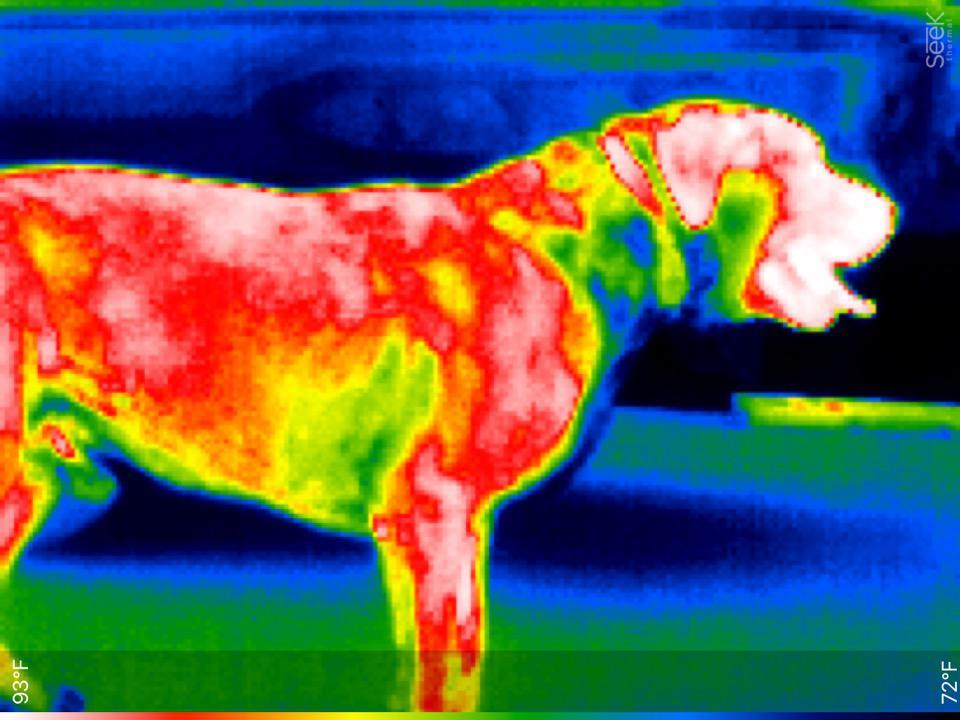dog: (0, 88, 905, 710)
